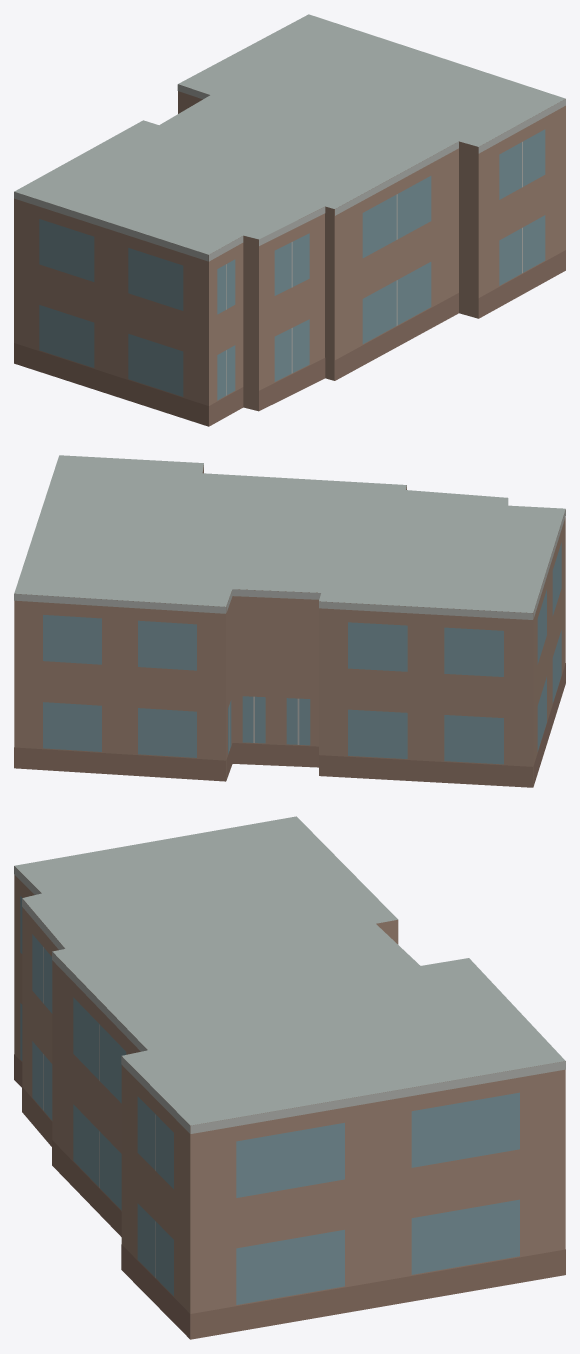
File: survey-upis-32970139.glb
3 renders of one model, top to bottom at view 1: azimuth 30°, elevation 25°; view 2: azimuth 150°, elevation 25°; view 3: azimuth 270°, elevation 25°, orthographic. The views are drawn at different scales.
Visible parts, largest first — view 1: survey-upis-32970139.tmp; view 2: survey-upis-32970139.tmp; view 3: survey-upis-32970139.tmp.
Boxes of the visible parts, bbox=[...] form: survey-upis-32970139.tmp: bbox=[14, 14, 565, 426]; survey-upis-32970139.tmp: bbox=[14, 455, 565, 787]; survey-upis-32970139.tmp: bbox=[14, 816, 565, 1339].
Bounding box in the file's own units: 18.92 × 6.1 × 14.26.
